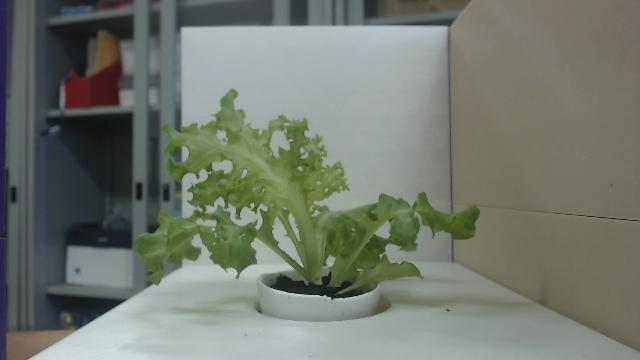Harvest Stage: (134, 89, 480, 297)
